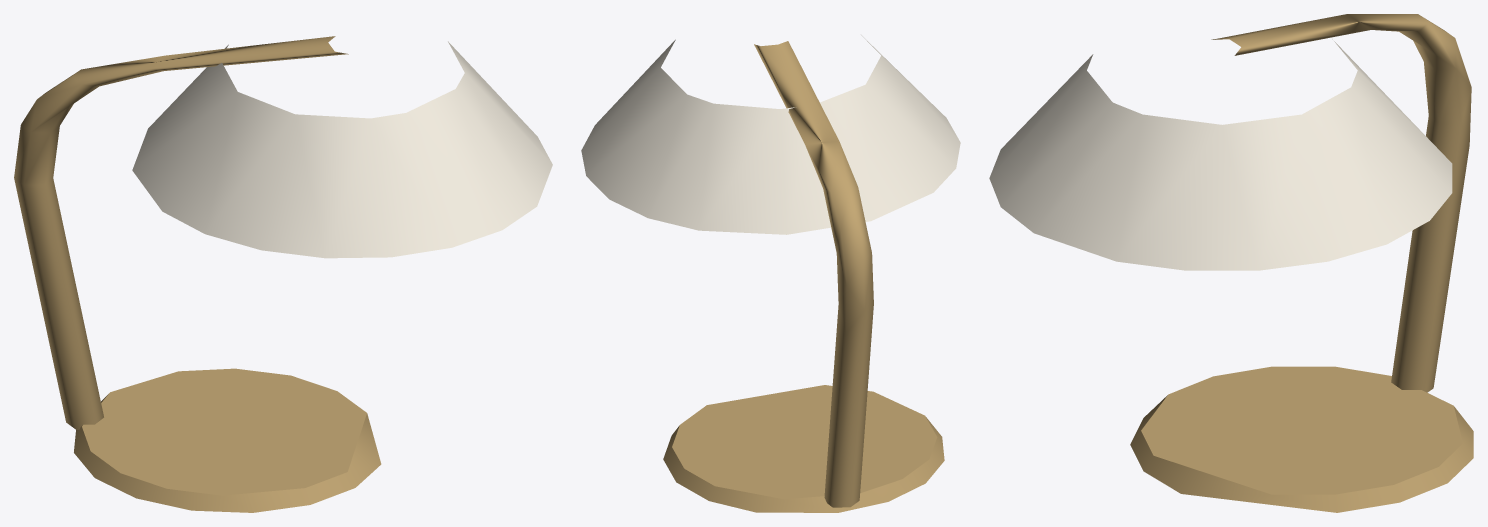
Rendered from lamp-16-0.lod.glb.
The picture shows the model from 3 angles, left to right: view 1: azimuth 30°, elevation 25°; view 2: azimuth 150°, elevation 25°; view 3: azimuth 270°, elevation 25°; orthographic projection. The views are drawn at different scales.
Visible parts, largest first — view 1: part (×2); view 2: part (×2); view 3: part (×2).
Part boxes in pixels (x1,y1,x2,y2): part (×2): (14,36,552,512); part (×2): (581,35,960,512); part (×2): (989,14,1473,512).
Size of the model in its own units: 1 by 1 by 1.
